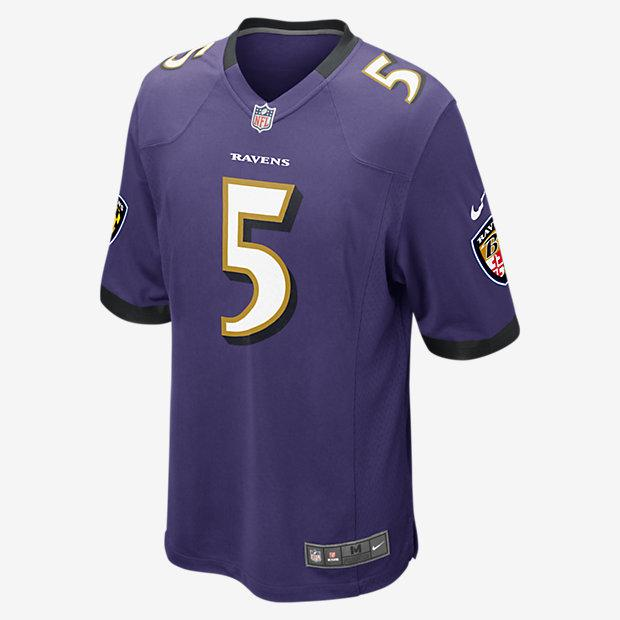teeshirt: (89, 9, 524, 620)
